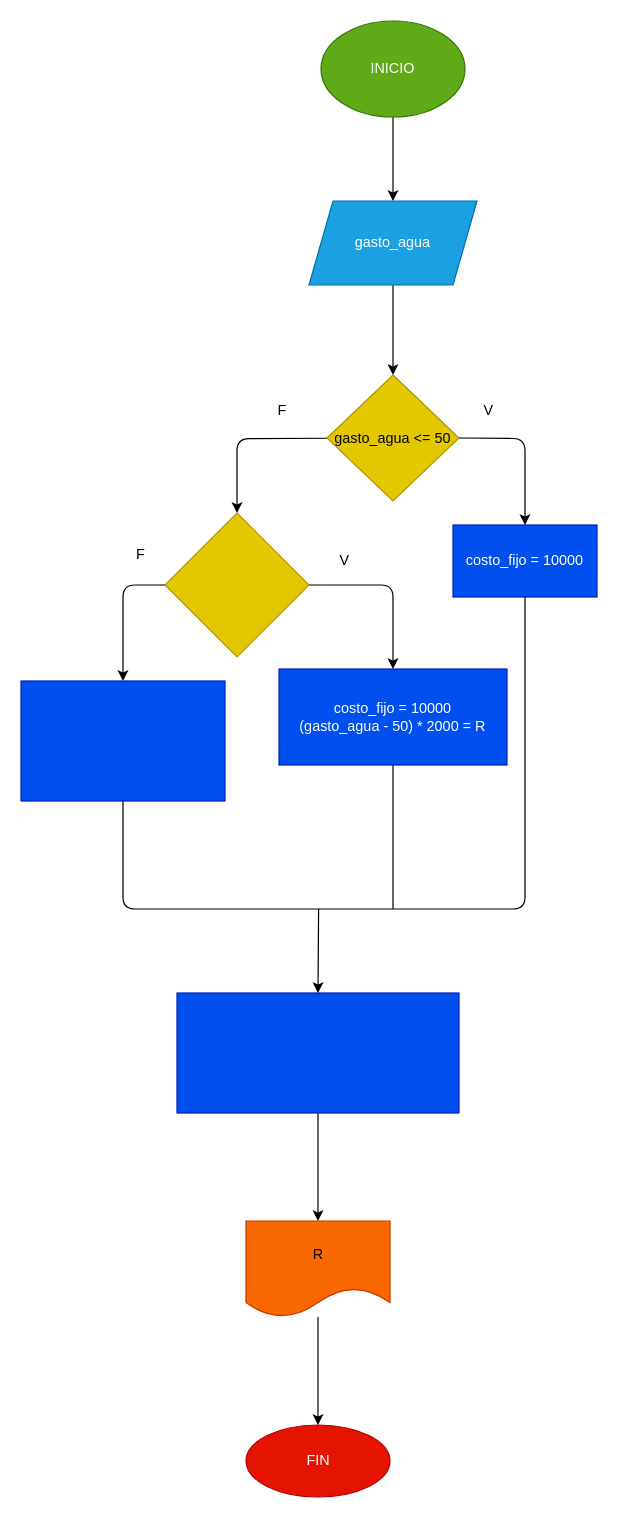
This 618x1518 diagram has some shape labels left out. The centre of each missing label's shape, as x and y in pixels:
"costo_fijo = 10000 150 * 2000 = R1 (gasto_agua - 200) * 3000 = R2 R1 + R2 = R" goes at (x=122, y=740).
"gasto_agua <= 200" goes at (x=236, y=584).
"total_gasto = costo_fijo + R" goes at (x=317, y=1052).
